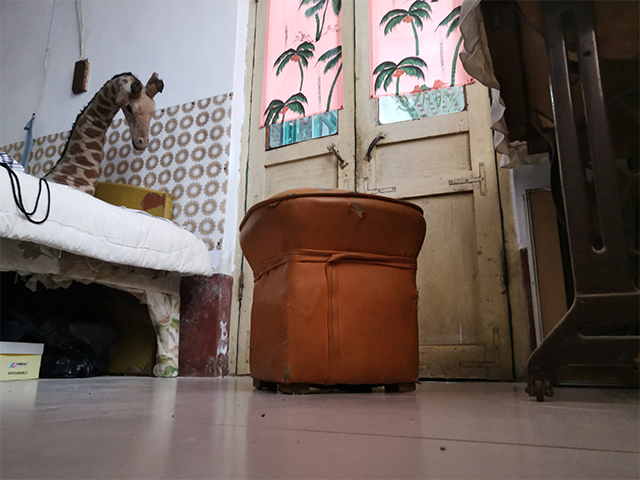bed: (1, 167, 218, 380)
stool: (237, 186, 429, 396)
